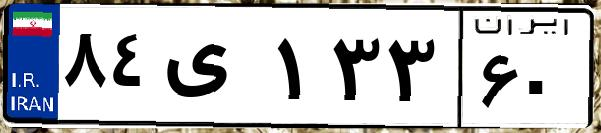0: (525, 38, 570, 115)
1: (270, 28, 330, 110)
3: (385, 28, 445, 110), (330, 28, 385, 110)
4: (110, 28, 158, 98)
6: (475, 38, 525, 113)
8: (57, 26, 110, 100)
ی: (158, 20, 270, 120)
